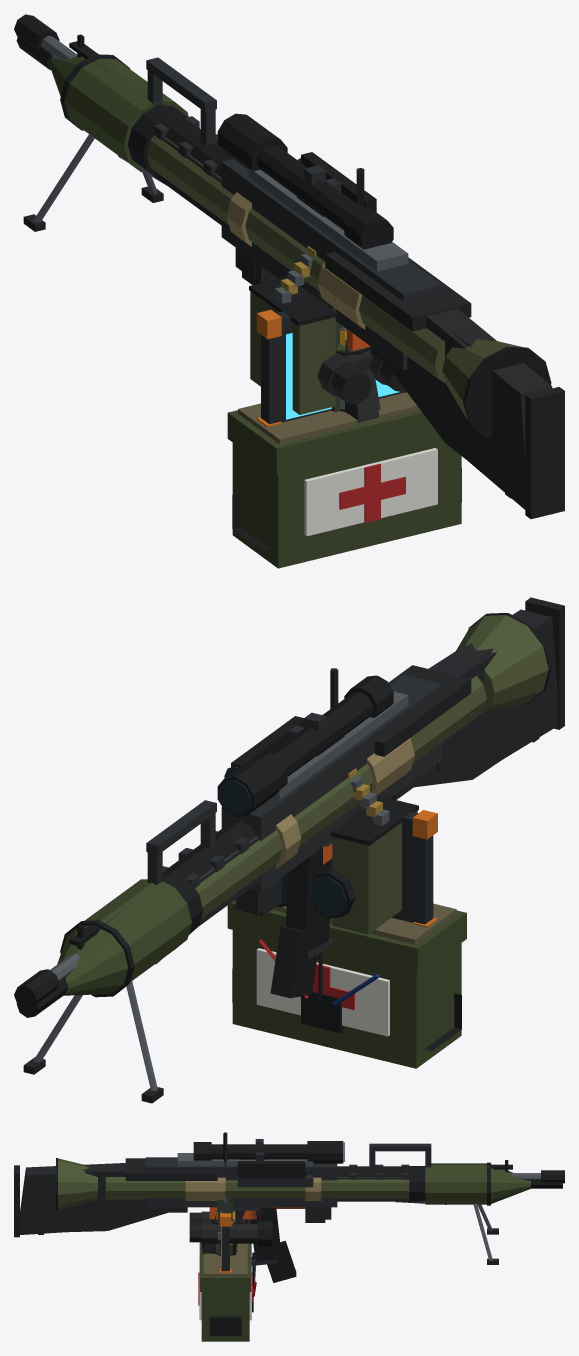
File: weapons2.glb
The picture shows the model from 3 angles, top to bottom: view 1: azimuth 30°, elevation 25°; view 2: azimuth 150°, elevation 25°; view 3: azimuth 270°, elevation 25°; orthographic projection. The views are drawn at different scales.
Parts seen in each view (by area): view 1: lmg, medkit_bag, rpg, marksman, rocket, tablet_device, satchel_charge, binoculars, carbine_scoped, radio_handset; view 2: lmg, medkit_bag, rpg, marksman, rocket, carbine_scoped, tablet_device, satchel_charge, binoculars; view 3: lmg, rpg, marksman, medkit_bag, rocket, binoculars, carbine_scoped, satchel_charge, tablet_device, radio_handset, flare_gun.
Part boxes in pixels (x1,y1,x2,y2): lmg: (14, 14, 564, 519); medkit_bag: (227, 410, 461, 568); rpg: (128, 106, 551, 437); marksman: (16, 36, 511, 498); rocket: (50, 54, 188, 172); tablet_device: (256, 309, 403, 427); satchel_charge: (238, 392, 419, 444); binoculars: (317, 350, 406, 404); carbine_scoped: (192, 158, 385, 413); radio_handset: (317, 168, 364, 412); lmg: (14, 597, 564, 1103); medkit_bag: (227, 900, 466, 1068); rpg: (172, 613, 551, 932); marksman: (16, 643, 539, 1017); rocket: (57, 879, 191, 997); carbine_scoped: (235, 735, 413, 998); tablet_device: (392, 810, 437, 927); satchel_charge: (258, 903, 456, 1033); binoculars: (277, 865, 355, 919); lmg: (14, 1143, 564, 1264); rpg: (56, 1158, 425, 1254); marksman: (38, 1139, 562, 1265); medkit_bag: (198, 1242, 252, 1341); rocket: (425, 1162, 530, 1205); binoculars: (189, 1211, 272, 1246); carbine_scoped: (169, 1158, 367, 1282); satchel_charge: (203, 1243, 256, 1312); tablet_device: (220, 1198, 232, 1272); radio_handset: (217, 1132, 235, 1255); flare_gun: (209, 1207, 312, 1250).
Bounding box in the file's own units: 0.304 × 0.52 × 1.38.
